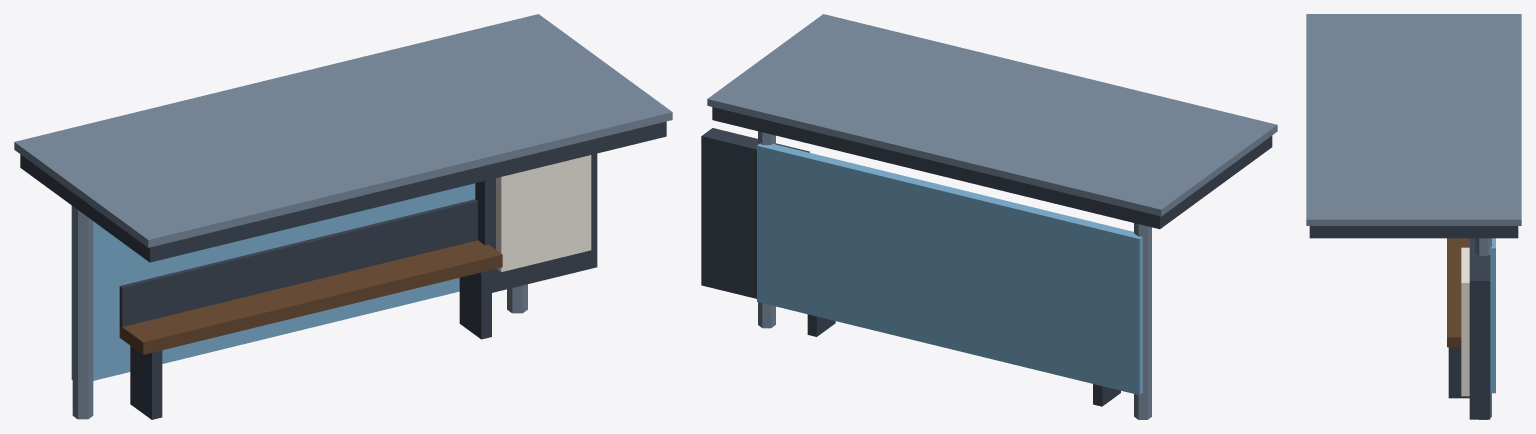
File: cittaFermata.glb
3 views of the same model, side by side, from view 1: azimuth 30°, elevation 25°; view 2: azimuth 150°, elevation 25°; view 3: azimuth 270°, elevation 25° (orthographic). The views are drawn at different scales.
Visible parts, largest first — view 1: cittaFermata_steel, cittaFermata_steelDark, cittaFermata_glass, cittaFermata_bark, cittaFermata_white; view 2: cittaFermata_glass, cittaFermata_steel, cittaFermata_steelDark; view 3: cittaFermata_steel, cittaFermata_steelDark, cittaFermata_bark, cittaFermata_white, cittaFermata_glass.
Part boxes in pixels (left/top/right/bottom): cittaFermata_steel: left=14, top=14, right=672, bottom=419; cittaFermata_steelDark: left=20, top=121, right=666, bottom=419; cittaFermata_glass: left=71, top=183, right=475, bottom=380; cittaFermata_bark: left=119, top=240, right=502, bottom=354; cittaFermata_white: left=496, top=155, right=591, bottom=271; cittaFermata_glass: left=757, top=143, right=1142, bottom=395; cittaFermata_steel: left=707, top=14, right=1277, bottom=419; cittaFermata_steelDark: left=701, top=107, right=1272, bottom=406; cittaFermata_steel: left=1306, top=14, right=1521, bottom=419; cittaFermata_steelDark: left=1309, top=226, right=1518, bottom=419; cittaFermata_bark: left=1447, top=238, right=1469, bottom=347; cittaFermata_white: left=1461, top=247, right=1469, bottom=396; cittaFermata_glass: left=1490, top=238, right=1495, bottom=393.
Bounding box in the file's own units: 7.35 × 3.41 × 3.1.
